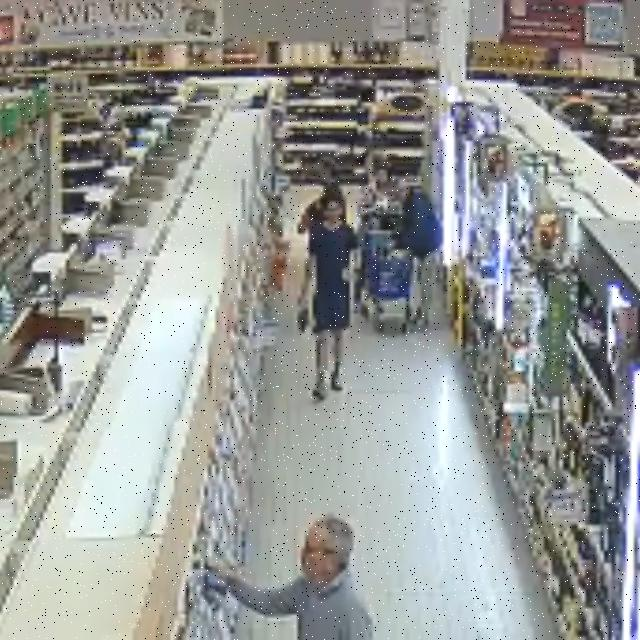article: (297, 300, 309, 333)
hands: (193, 540, 218, 569), (298, 291, 309, 307)
person: (214, 515, 372, 639), (299, 198, 357, 400), (398, 181, 442, 324), (299, 163, 345, 233)
